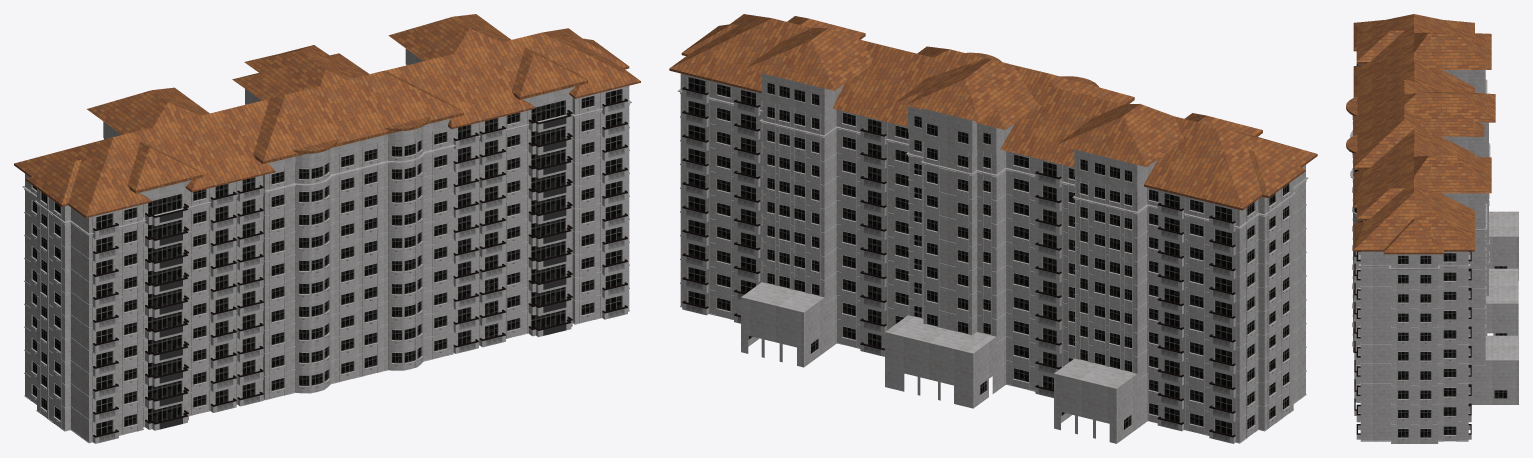
File: lanhai.FBX
3 renders of one model, left to right at view 1: azimuth 30°, elevation 25°; view 2: azimuth 150°, elevation 25°; view 3: azimuth 270°, elevation 25°, orthographic. The views are drawn at different scales.
Parts seen in each view (by area): view 1: 香海园; view 2: 香海园; view 3: 香海园.
Part boxes in pixels (x1,y1,x2,y2): 香海园: (14,14,640,443); 香海园: (669,14,1317,443); 香海园: (1346,14,1518,443).
Bounding box in the file's own units: 61632 × 29386 × 19392.
